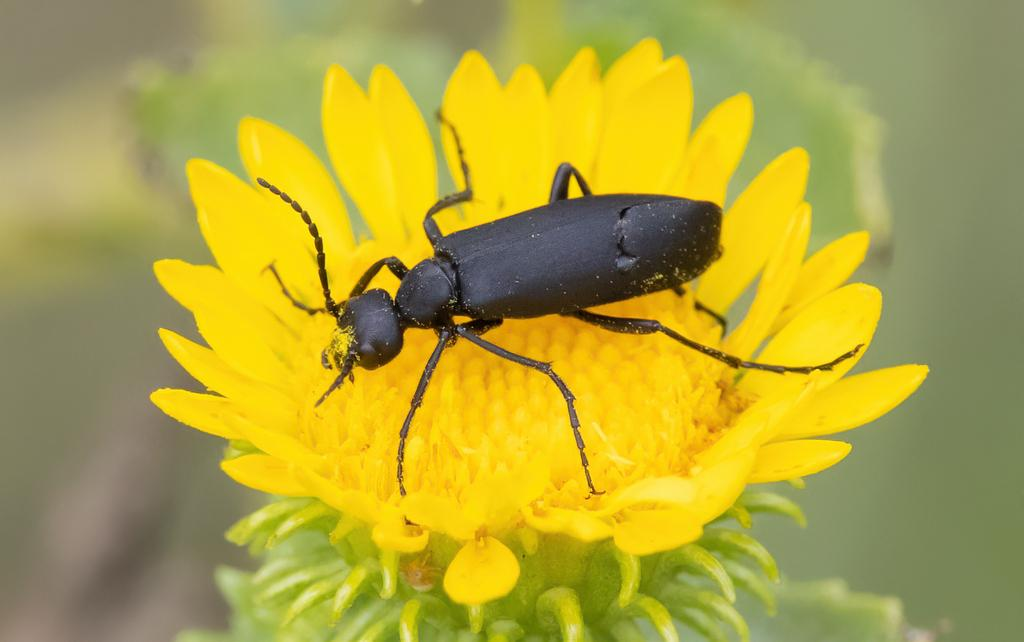blister_beetle: (193, 67, 881, 544)
